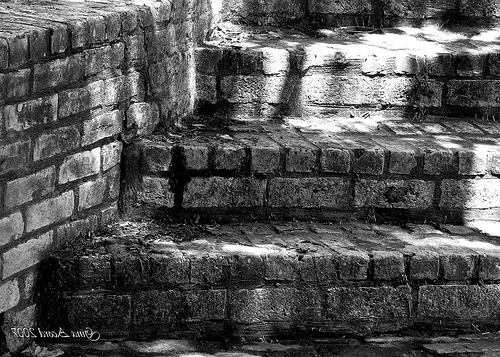stairs_up: (59, 13, 498, 338)
